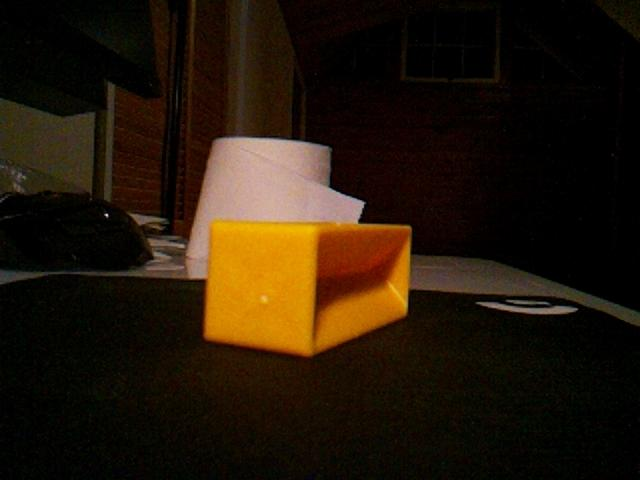yellow: (202, 218, 413, 358)
